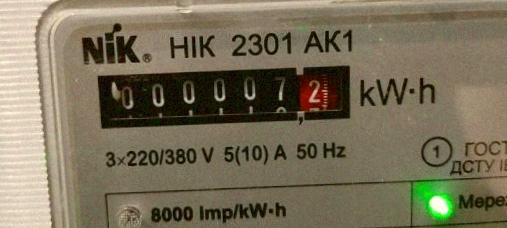0: (179, 78, 197, 105), (118, 83, 135, 111), (149, 81, 166, 109), (240, 74, 257, 102), (210, 75, 226, 103)
2: (306, 76, 322, 106)
7: (270, 74, 287, 103)
screen: (88, 57, 363, 134)
